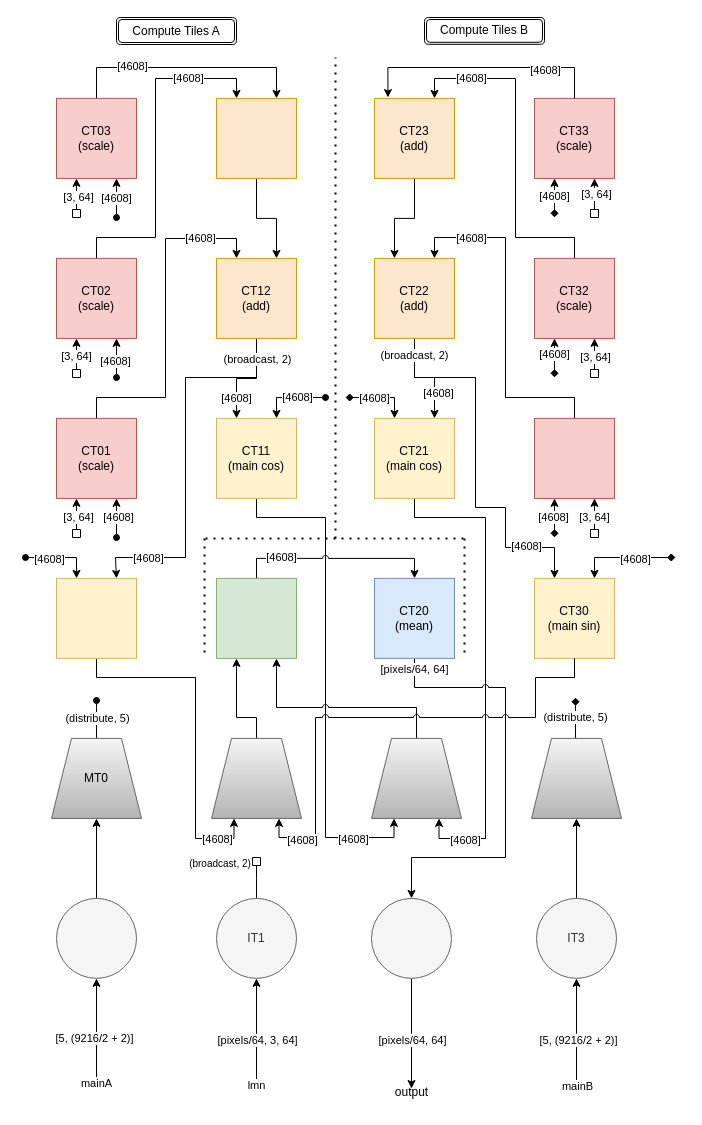
This 702x1125 diagram has some shape labels left out. Here are the shapes that lost their labels. From the top down, the box of each, then its label:
(216, 97, 296, 178): CT13 (add)
(534, 417, 614, 498): CT31 (scale )
(56, 577, 136, 658): CT00 (main sin)
(216, 577, 296, 658): CT10 (sub)
(210, 737, 302, 818): MT1
(370, 737, 462, 818): MT2
(530, 737, 622, 818): MT3
(56, 897, 136, 978): IT0
(370, 897, 452, 978): IT2
